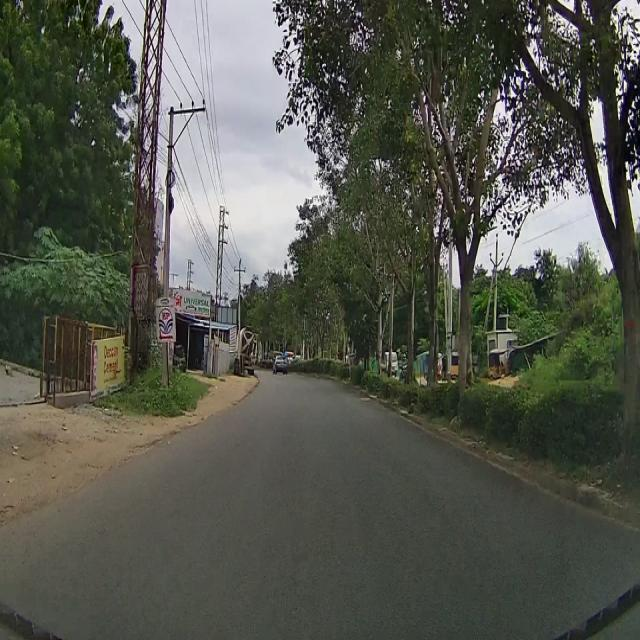barrier ahead at: (153, 290, 183, 400)
